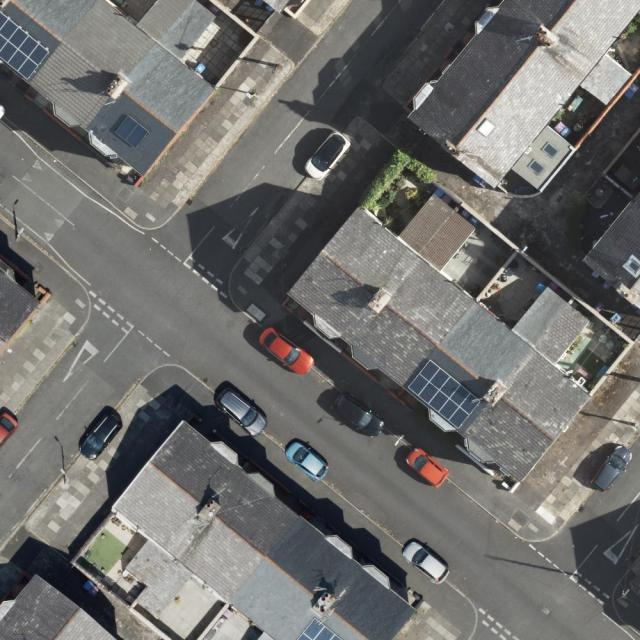roof: (286, 194, 594, 487), (112, 418, 422, 640), (410, 0, 640, 192), (0, 0, 219, 184), (0, 573, 123, 640), (582, 189, 640, 314), (0, 267, 42, 350), (266, 0, 292, 12)
skylight: (623, 251, 640, 279), (477, 117, 497, 139), (539, 139, 559, 161), (530, 158, 547, 178)
solar: (407, 358, 484, 432), (0, 11, 52, 78), (109, 106, 152, 153), (299, 616, 347, 640)
